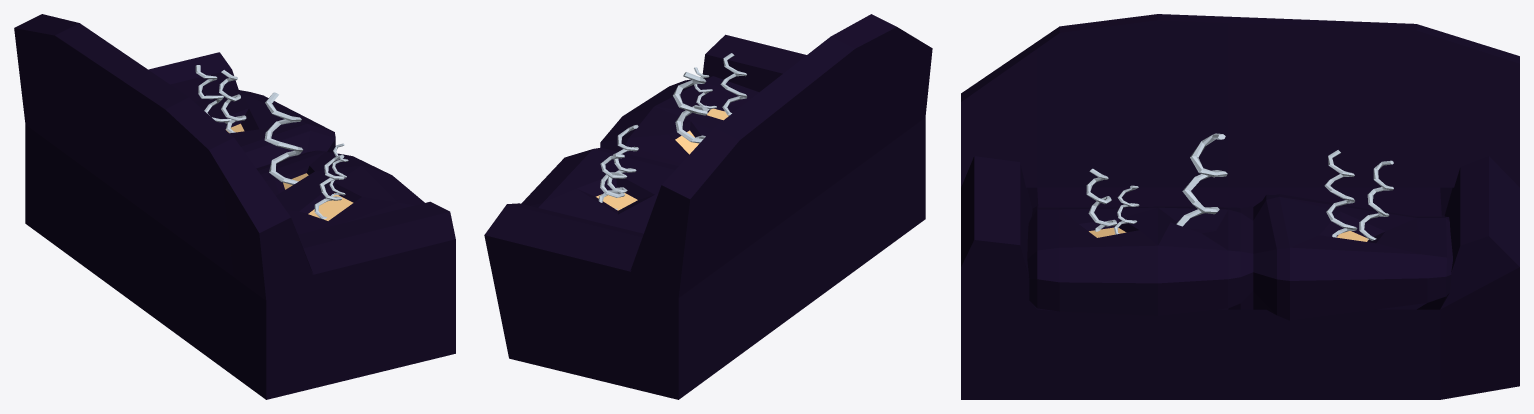
The model's file is Sofa.fbx.
3 renders of one model, left to right at view 1: azimuth 30°, elevation 25°; view 2: azimuth 150°, elevation 25°; view 3: azimuth 270°, elevation 25°, orthographic. The views are drawn at different scales.
Visible parts, largest first — view 1: Cube; view 2: Cube; view 3: Cube.
Part boxes in pixels (x1,y1,x2,y2): Cube: (14,14,455,399); Cube: (484,14,932,399); Cube: (961,14,1519,399).
Bounding box in the file's own units: 240 × 241 × 440.
